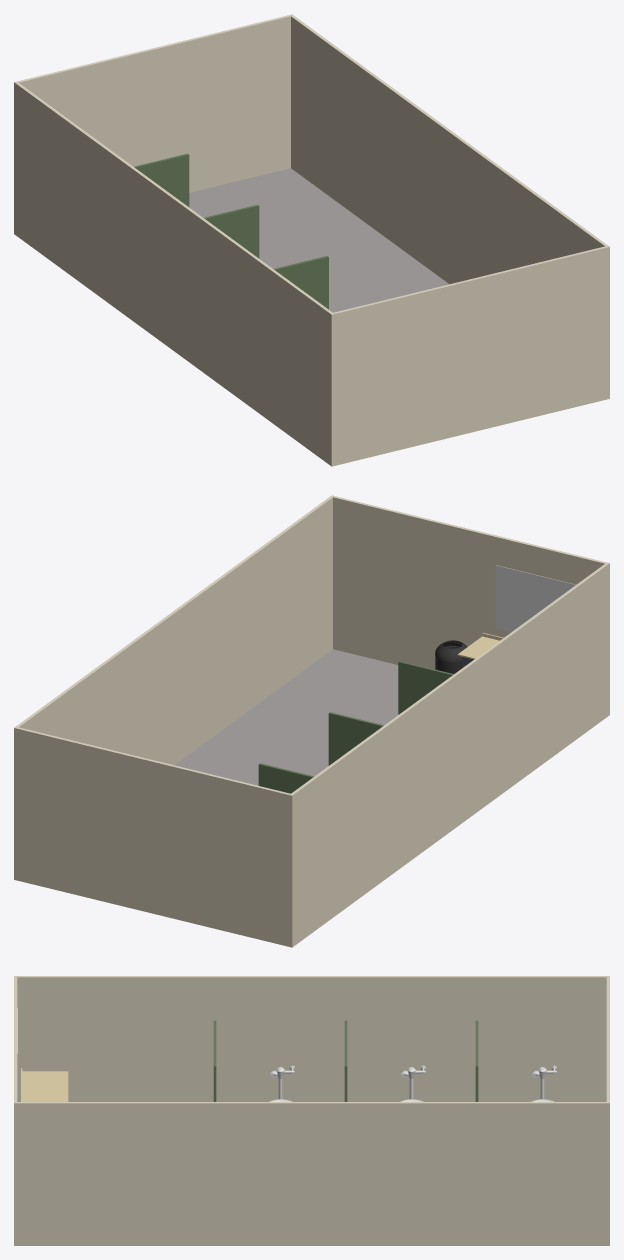
File: Bathroom.fbx
3 renders of one model, top to bottom at view 1: azimuth 30°, elevation 25°; view 2: azimuth 150°, elevation 25°; view 3: azimuth 270°, elevation 25°, orthographic. The views are drawn at different scales.
Parts seen in each view (by area): view 1: Room, Floor, Divide_2, Divide_3, Divide_1; view 2: Room, Floor, Plane, Divide_2, Divide_1, Divide_3, Trash_Can, Counter; view 3: Room, Counter.
Part boxes in pixels (box(x1,y1,x2,y2)): Room: box(14, 14, 609, 466); Floor: box(189, 168, 448, 312); Divide_2: box(204, 205, 259, 258); Divide_3: box(134, 153, 189, 206); Divide_1: box(273, 256, 328, 309); Room: box(14, 495, 609, 947); Floor: box(175, 649, 398, 785); Plane: box(495, 565, 575, 632); Divide_2: box(328, 712, 383, 765); Divide_1: box(398, 661, 453, 714); Divide_3: box(258, 763, 314, 793); Trash_Can: box(435, 640, 467, 673); Counter: box(457, 633, 503, 667); Room: box(14, 976, 609, 1245); Counter: box(21, 1068, 68, 1101).
Bounding box in the file's own units: 460 × 241 × 910.
